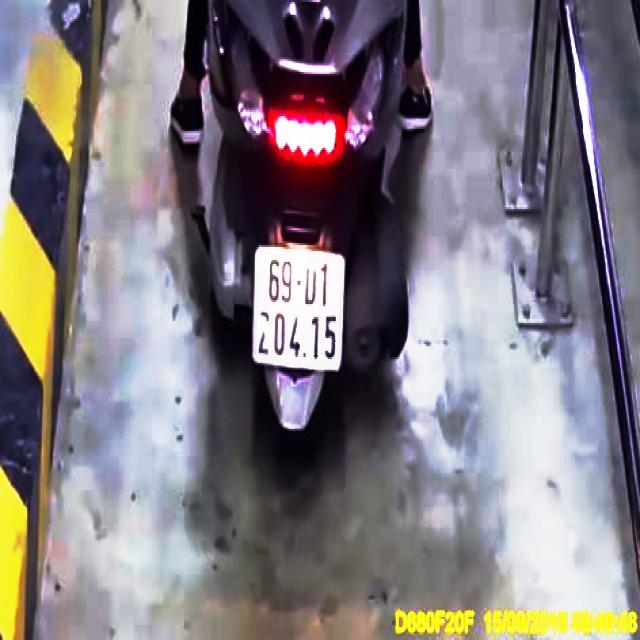license_plate: (255, 251, 346, 370)
